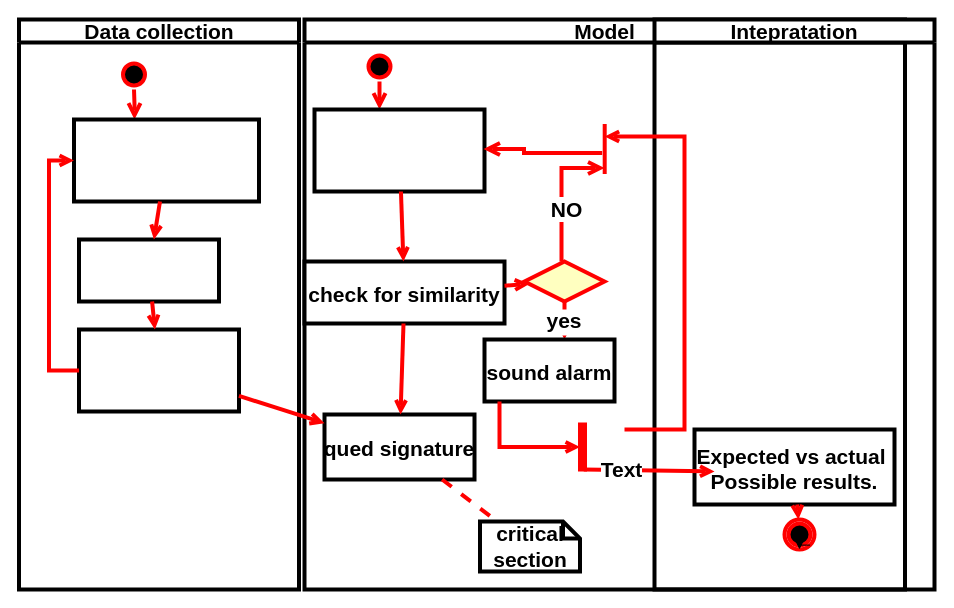
Image size: 954x608. Some labels were removed from this diagram. Here are the shapes that lost their labels. From the top down, the centre of each, then its label:
point 166,160: Read status ESP32
point 399,150: error signatures
point 148,270: Preprocess
point 158,370: write out to csv
